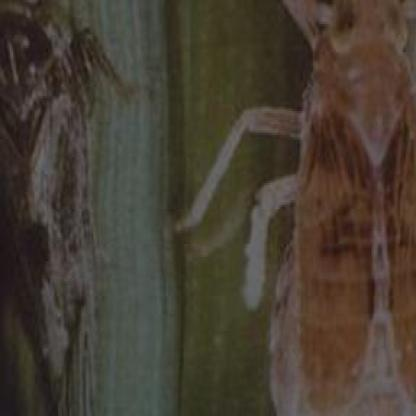brown-planthopper: (264, 0, 416, 416), (0, 0, 102, 416)
